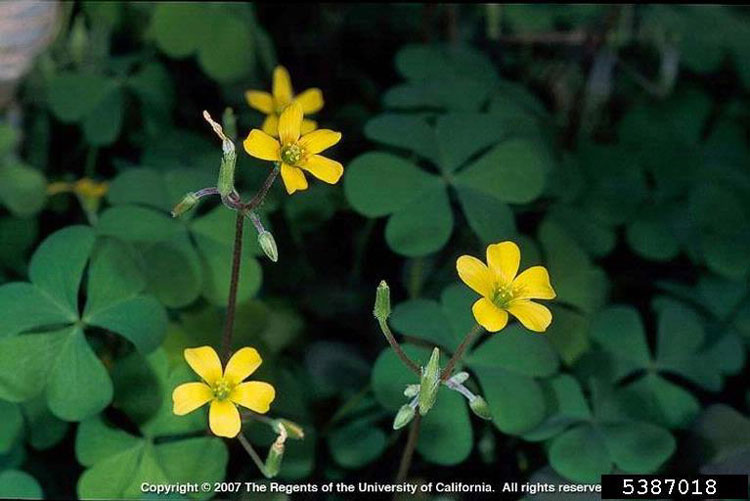oxalis: (364, 249, 738, 501), (22, 153, 265, 465), (346, 45, 626, 229), (42, 23, 272, 125)
